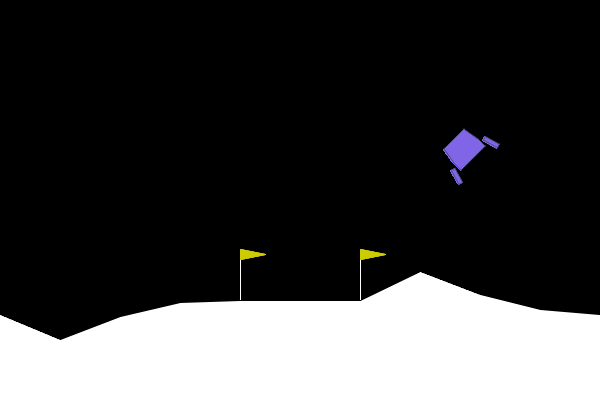lander: (431, 117, 501, 187)
